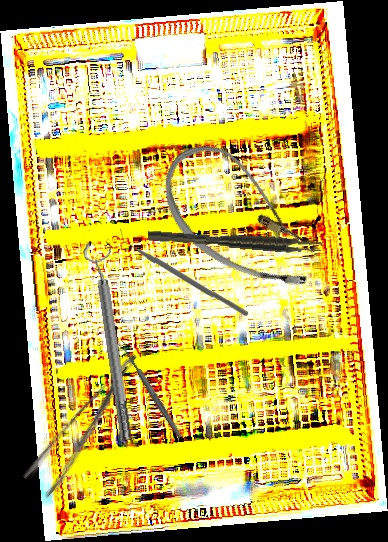Cannula: (141, 129, 343, 308)
Chopper: (120, 225, 248, 319)
Dressing Forceps: (19, 350, 161, 501)
Fixation Ring: (81, 239, 141, 443)
Surgical Spoon: (117, 339, 184, 440)
Tissue Forceps: (147, 225, 323, 256)
